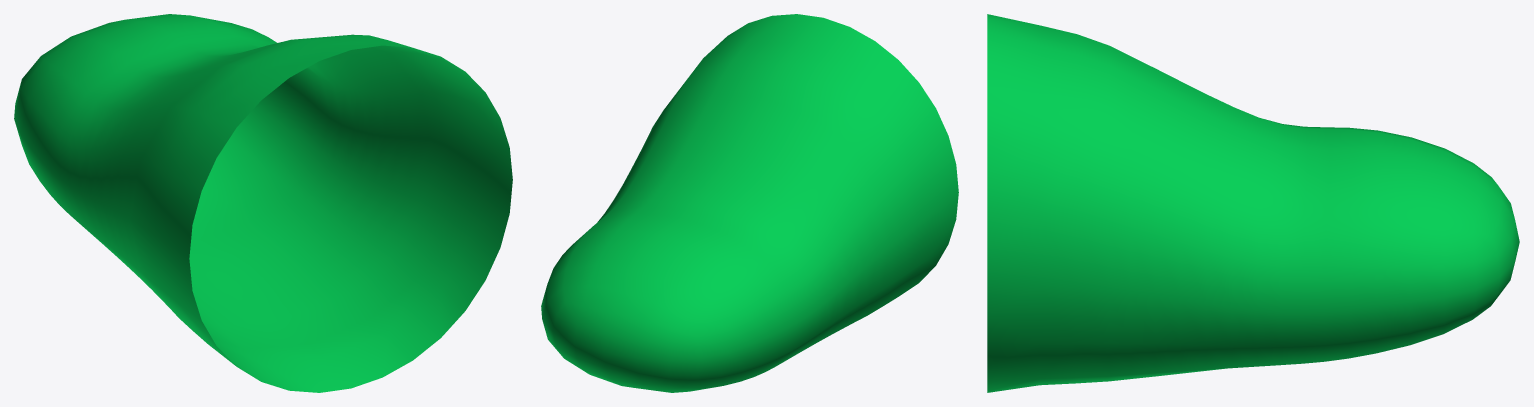
The model's file is head.glb.
3 views of the same model, side by side, from view 1: azimuth 30°, elevation 25°; view 2: azimuth 150°, elevation 25°; view 3: azimuth 270°, elevation 25° (orthographic). The views are drawn at different scales.
Visible parts, largest first — view 1: Head; view 2: Head; view 3: Head.
Boxes of the visible parts, x1,y1,x2,y2 form: Head: [14, 14, 512, 392]; Head: [541, 14, 958, 392]; Head: [987, 14, 1519, 392].
Bounding box in the file's own units: 1 × 1 × 1.4.
